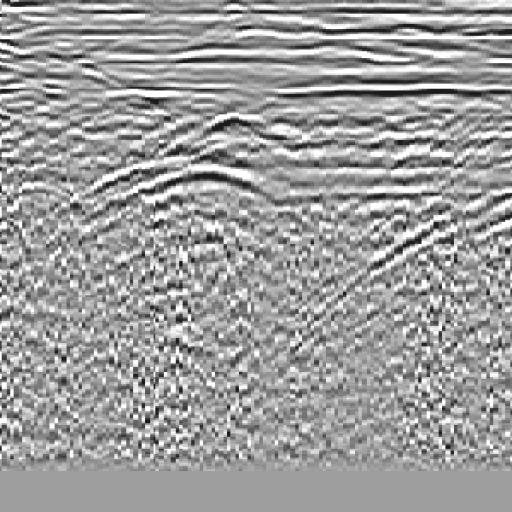metalic: (420, 89, 512, 291)
non-metallic: (79, 124, 237, 259), (170, 94, 303, 159)
